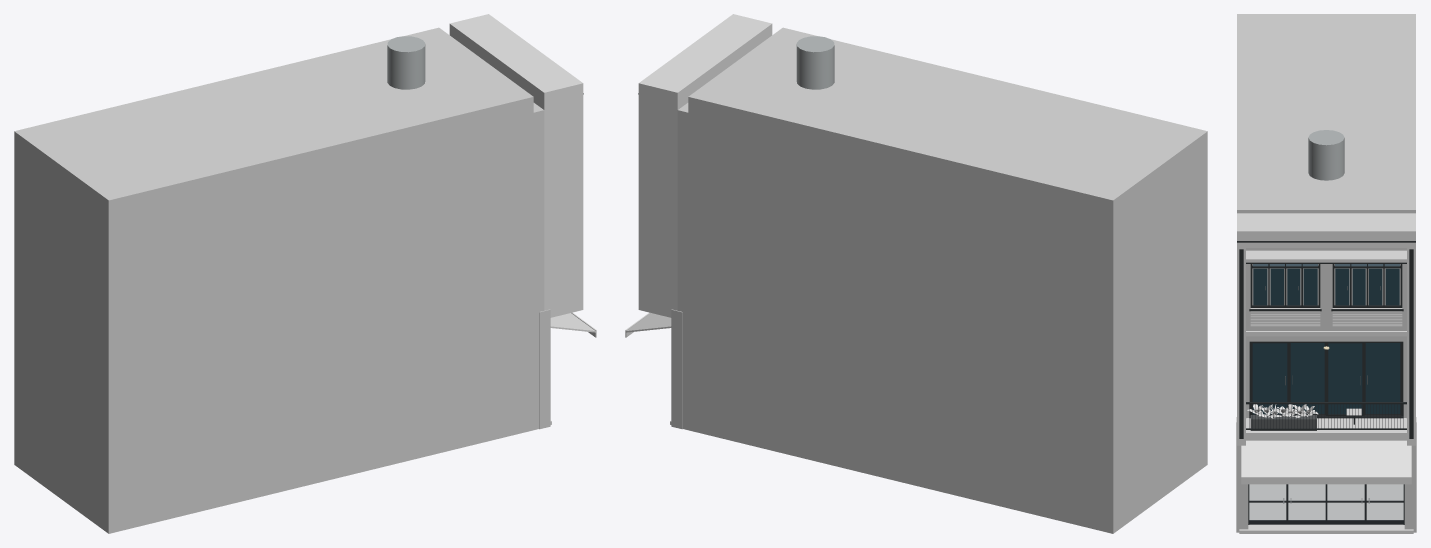
The model's file is OW_Mau_NhaPho_6_0_0.fbx.
3 views of the same model, side by side, from view 1: azimuth 30°, elevation 25°; view 2: azimuth 150°, elevation 25°; view 3: azimuth 270°, elevation 25° (orthographic). The views are drawn at different scales.
Parts seen in each view (by area): view 1: OW_NhaPho_9024; view 2: OW_NhaPho_9024; view 3: OW_NhaPho_9024, OW_MatTienKinh.
Boxes of the visible parts, x1,y1,x2,y2 form: OW_NhaPho_9024: (14, 14, 596, 533); OW_NhaPho_9024: (625, 14, 1207, 533); OW_NhaPho_9024: (1236, 14, 1416, 533); OW_MatTienKinh: (1248, 484, 1404, 524).
Size of the model in its own units: 17.77 by 12.85 by 6.
